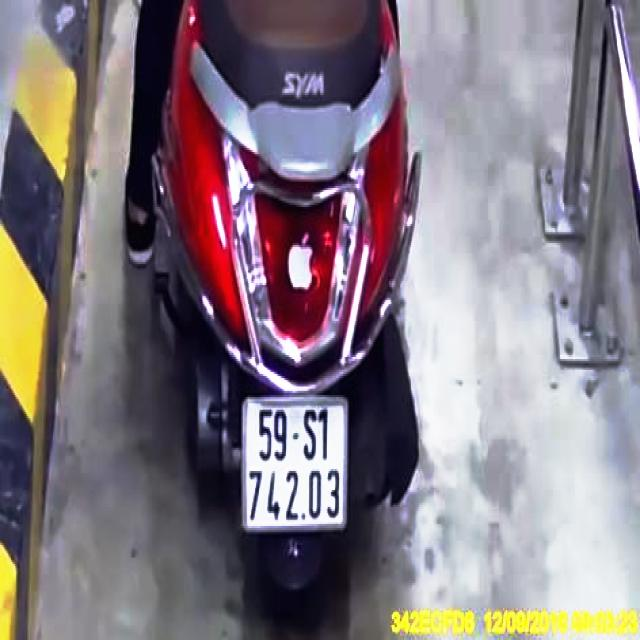license_plate: (242, 400, 347, 532)
